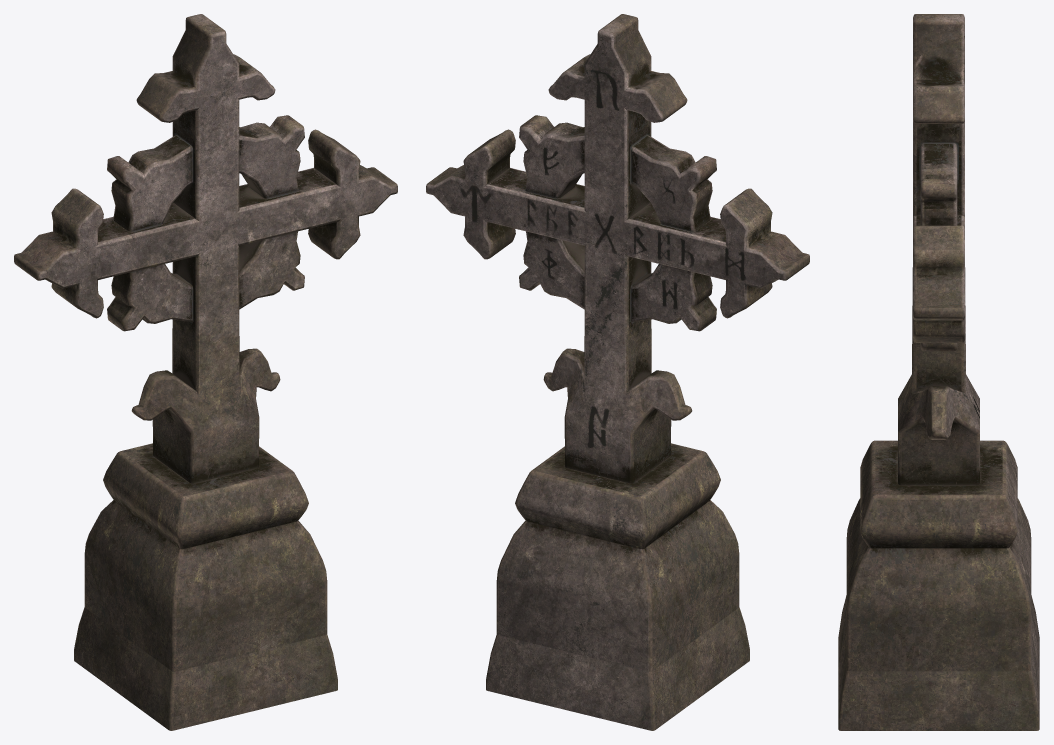
File: SM_gravestone_28.fbx
3 renders of one model, left to right at view 1: azimuth 30°, elevation 25°; view 2: azimuth 150°, elevation 25°; view 3: azimuth 270°, elevation 25°, orthographic. The views are drawn at different scales.
Parts seen in each view (by area): view 1: SM_gravestone_028; view 2: SM_gravestone_028; view 3: SM_gravestone_028.
Part boxes in pixels (box(x1,y1,x2,y2)): SM_gravestone_028: box(14, 14, 397, 730); SM_gravestone_028: box(426, 14, 809, 730); SM_gravestone_028: box(838, 14, 1039, 730).
Bounding box in the file's own units: 70.59 × 122 × 33.06.
